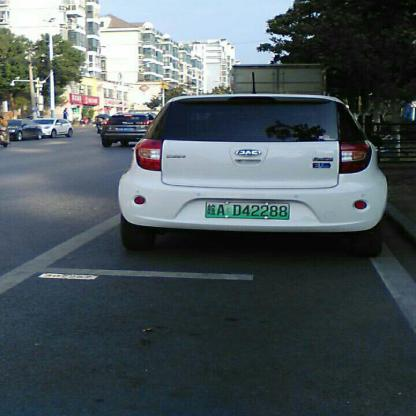lp: (204, 201, 290, 219)
